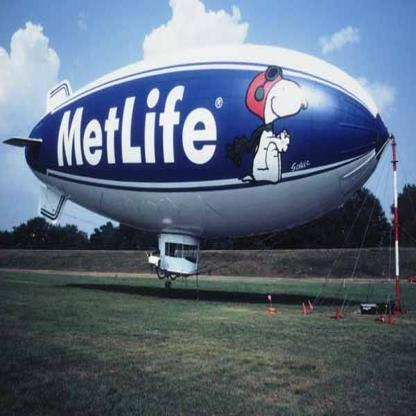Airship: (9, 44, 392, 277)
